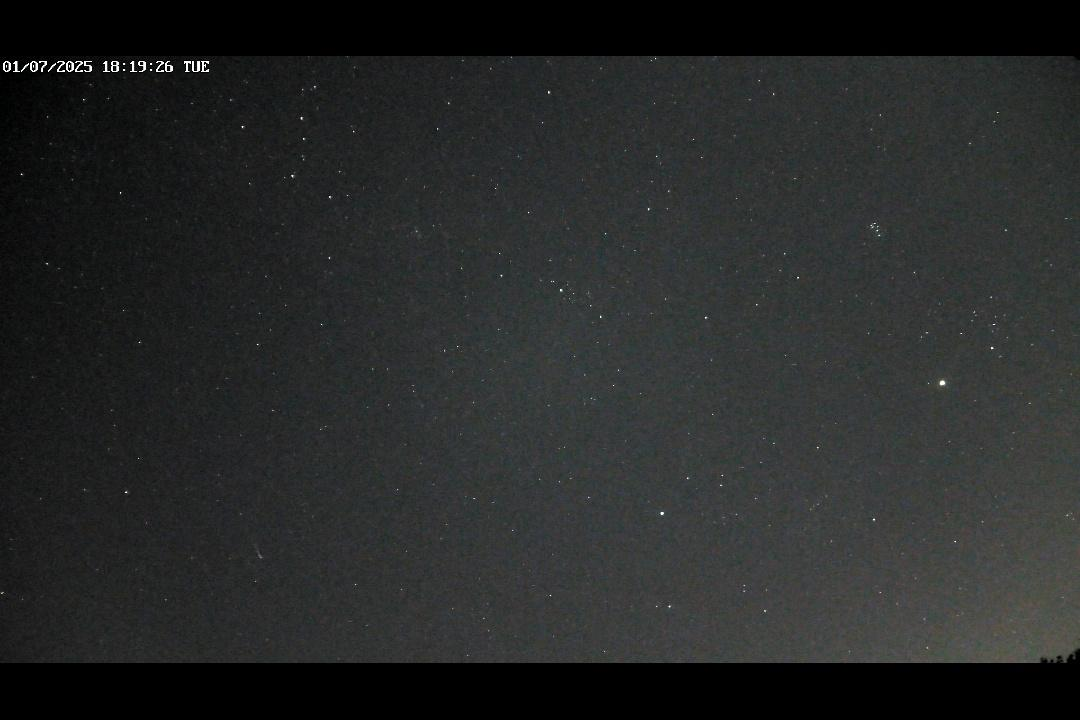Plane: (236, 528, 270, 564)
